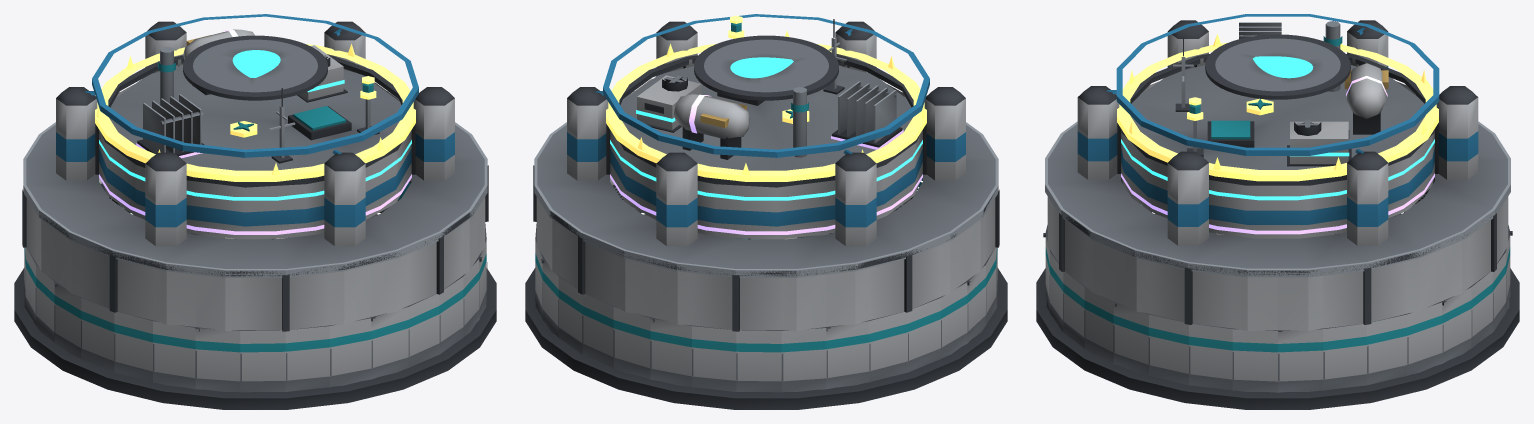
File: water_recycler_s_far.glb
3 renders of one model, left to right at view 1: azimuth 30°, elevation 25°; view 2: azimuth 150°, elevation 25°; view 3: azimuth 270°, elevation 25°, orthographic.
Parts seen in each view (by area): view 1: Roof, Base, L5, L2, L4, L3; view 2: Roof, Base, L4, L5, L2, L3; view 3: Roof, Base, L5, L2, L4, L3.
Boxes of the visible parts, <box> form: Roof: <box>22,14,488,331</box>; Base: <box>14,178,496,409</box>; L5: <box>95,43,415,181</box>; L2: <box>23,88,487,277</box>; L4: <box>99,29,411,234</box>; L3: <box>99,45,411,200</box>; Roof: <box>533,14,999,331</box>; Base: <box>525,178,1007,409</box>; L4: <box>610,81,922,234</box>; L5: <box>606,15,926,181</box>; L2: <box>534,19,998,277</box>; L3: <box>610,75,922,200</box>; Roof: <box>1047,14,1508,330</box>; Base: <box>1036,177,1519,409</box>; L5: <box>1117,34,1438,181</box>; L2: <box>1045,37,1510,277</box>; L4: <box>1121,22,1434,234</box>; L3: <box>1121,119,1434,200</box>.
Bounding box in the file's own units: 9.32 × 5.54 × 9.32.
